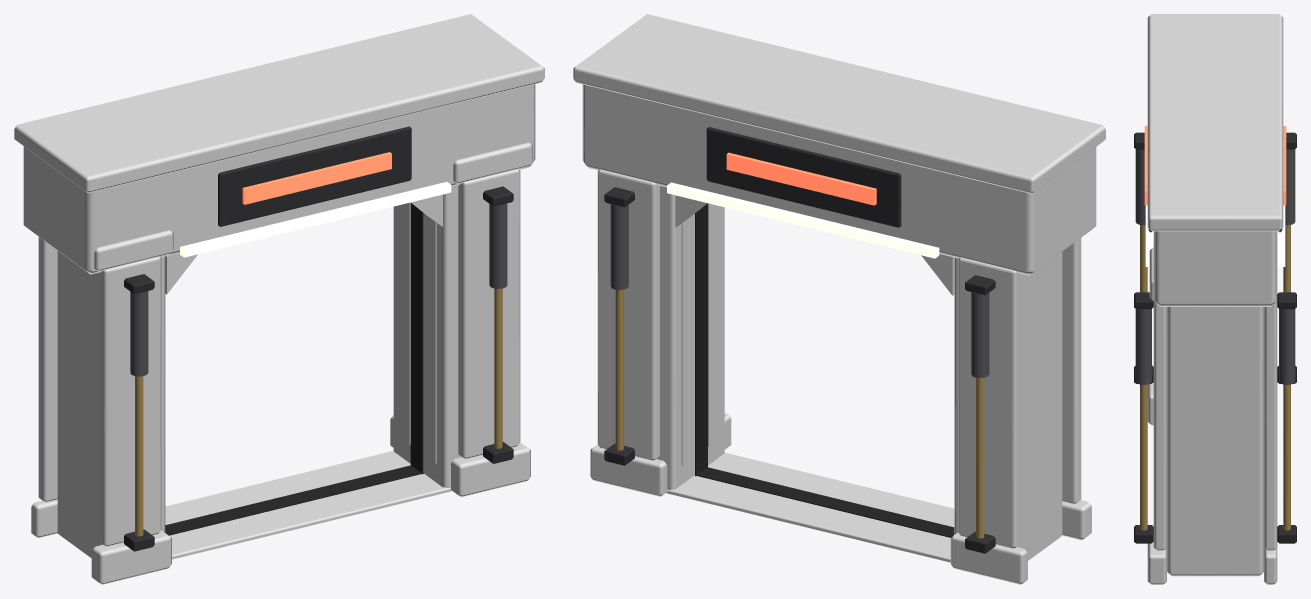
Rendered from door_frame.glb.
The picture shows the model from 3 angles, left to right: view 1: azimuth 30°, elevation 25°; view 2: azimuth 150°, elevation 25°; view 3: azimuth 270°, elevation 25°; orthographic projection. The views are drawn at different scales.
Parts seen in each view (by area): view 1: Frame, Status; view 2: Frame, Status; view 3: Frame, Status.
Boxes of the visible parts, left/top/right/bottom form: Frame: left=14, top=14, right=544, bottom=584; Status: left=242, top=152, right=391, bottom=204; Frame: left=573, top=14, right=1105, bottom=584; Status: left=726, top=152, right=876, bottom=205; Frame: left=1134, top=14, right=1296, bottom=584; Status: left=1144, top=126, right=1286, bottom=205.
Size of what is drawn, in the model's own units: 5 by 4.28 by 1.68.
